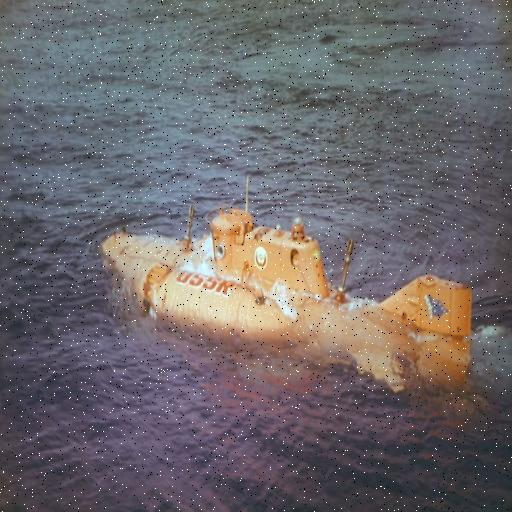submarine: (101, 189, 468, 393)
